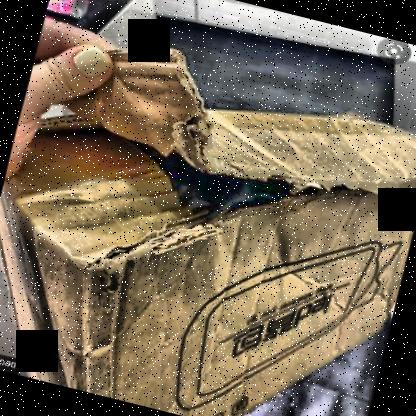defect parcel: (0, 18, 416, 348)
